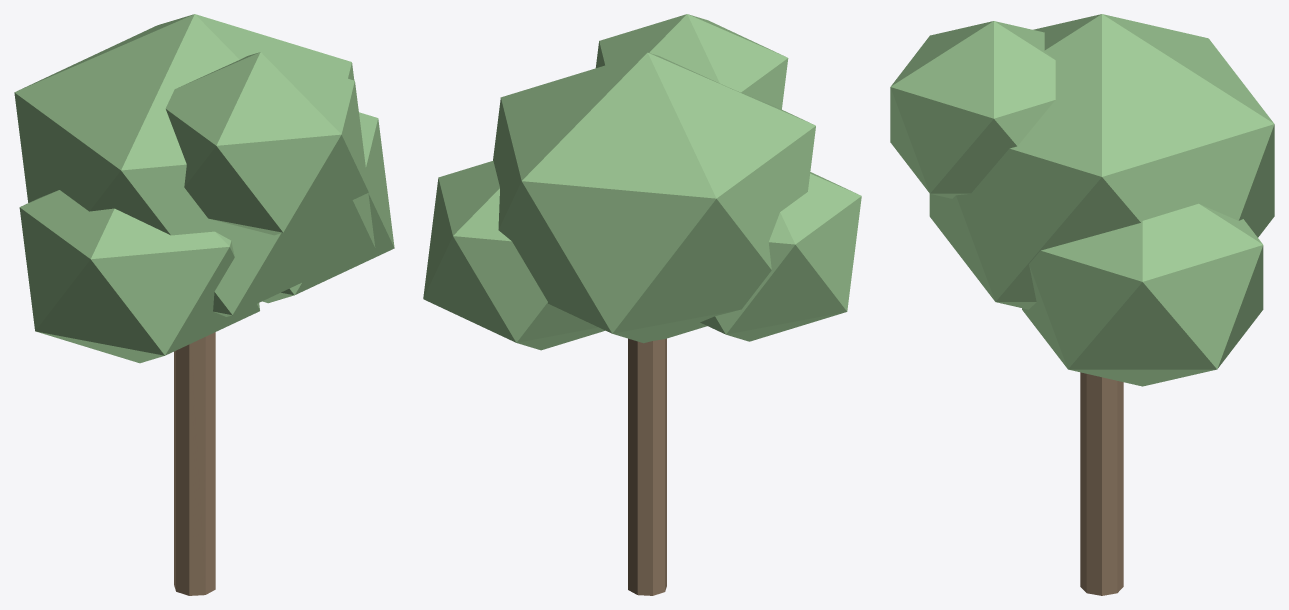
The model's file is tree.glb.
The picture shows the model from 3 angles, left to right: view 1: azimuth 30°, elevation 25°; view 2: azimuth 150°, elevation 25°; view 3: azimuth 270°, elevation 25°; orthographic projection. The views are drawn at different scales.
Visible parts, largest first — view 1: Tree; view 2: Tree; view 3: Tree.
Boxes of the visible parts, bbox=[...] form: Tree: bbox=[14, 14, 394, 595]; Tree: bbox=[423, 14, 861, 595]; Tree: bbox=[890, 14, 1274, 595].
Size of the model in its own units: 3.33 by 4.67 by 2.84.
